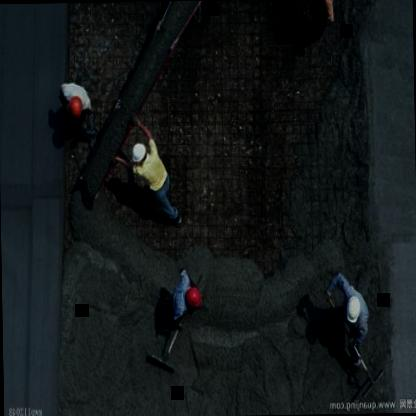helmet: (339, 295, 366, 330), (180, 282, 208, 314), (63, 92, 87, 124), (128, 136, 148, 170)
